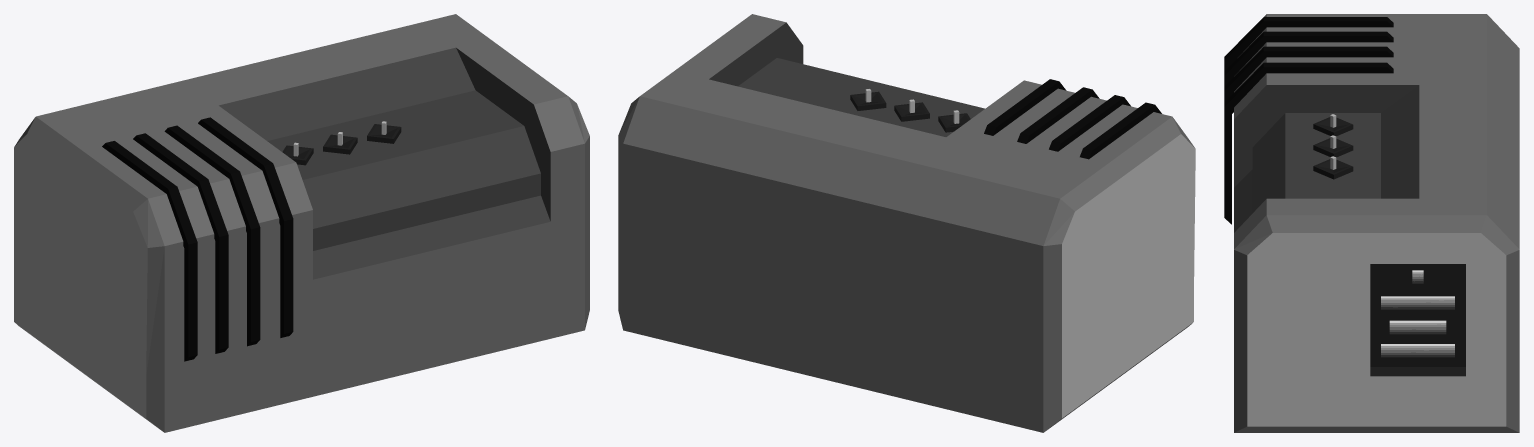
The model's file is tech_small_D.FBX.
The picture shows the model from 3 angles, left to right: view 1: azimuth 30°, elevation 25°; view 2: azimuth 150°, elevation 25°; view 3: azimuth 270°, elevation 25°; orthographic projection.
Visible parts, largest first — view 1: tech_small_D; view 2: tech_small_D; view 3: tech_small_D, tech_small_D_glow.
Boxes of the visible parts, x1,y1,x2,y2 form: tech_small_D: (14,14,589,432); tech_small_D: (618,14,1195,432); tech_small_D: (1224,14,1519,432); tech_small_D_glow: (1381,270,1454,357).
Size of the model in its own units: 36.76 by 18.06 by 21.61.
